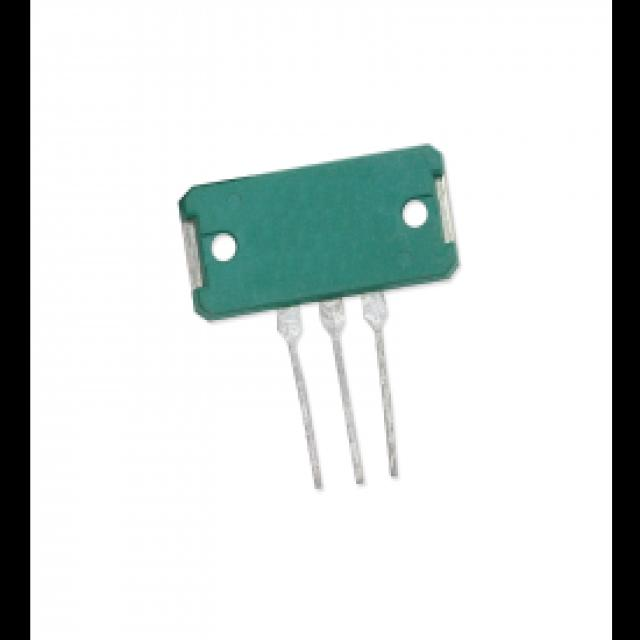Transistor: (177, 145, 464, 493)
